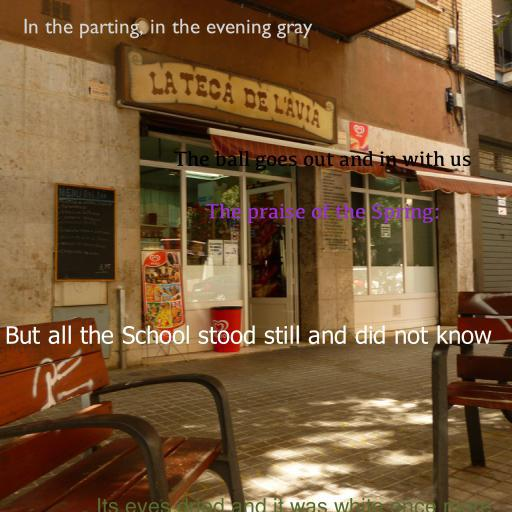Gill Sans: (22, 18, 312, 39)
Impact: (96, 498, 492, 512)
Kefa: (174, 151, 472, 171), (205, 203, 441, 223)
Tahoma: (4, 325, 492, 345)
